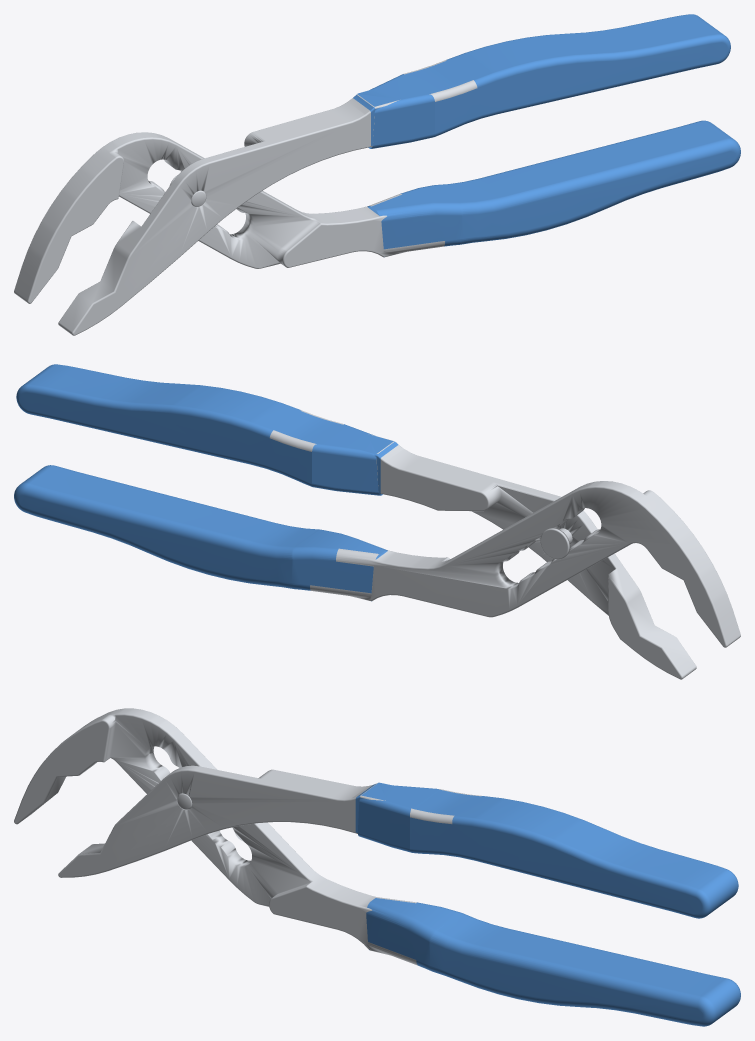
The model's file is pliers.glb.
3 renders of one model, top to bottom at view 1: azimuth 30°, elevation 25°; view 2: azimuth 150°, elevation 25°; view 3: azimuth 330°, elevation 25°, orthographic.
Bounding box in the file's own units: 0.2 × 0.0484 × 0.018.
